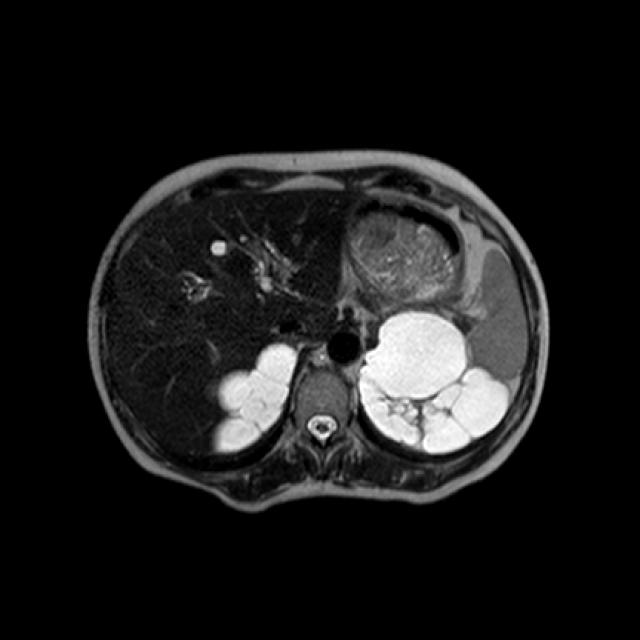sag: (214, 342, 296, 453)
sol: (358, 309, 508, 455)
